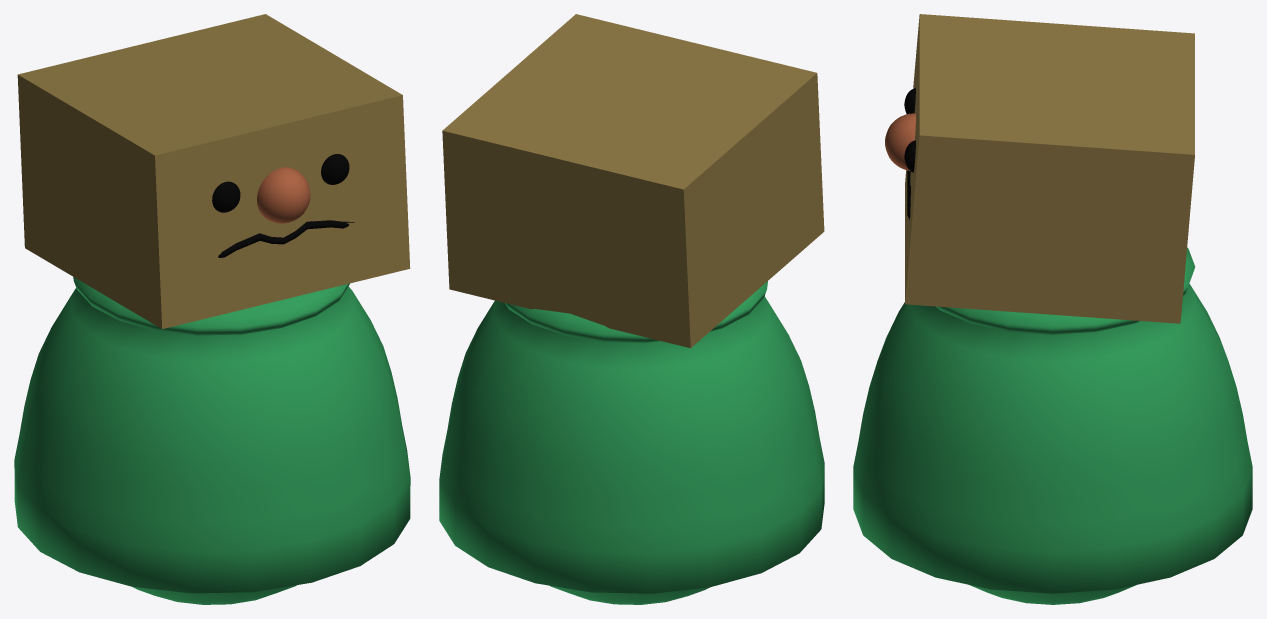
File: NPC1.fbx
The picture shows the model from 3 angles, left to right: view 1: azimuth 30°, elevation 25°; view 2: azimuth 150°, elevation 25°; view 3: azimuth 270°, elevation 25°; orthographic projection. The views are drawn at different scales.
Parts seen in each view (by area): view 1: pCube2; view 2: pCube2; view 3: pCube2.
Boxes of the visible parts, bbox=[...] form: pCube2: bbox=[14, 14, 410, 604]; pCube2: bbox=[439, 14, 824, 604]; pCube2: bbox=[853, 14, 1252, 604].
Size of the model in its own units: 1.91 by 2.7 by 1.91.
